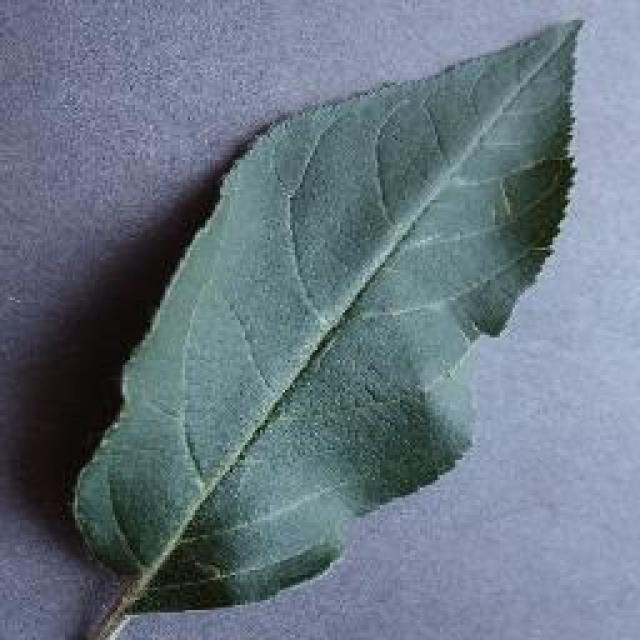apple healthy: (63, 12, 585, 638)
